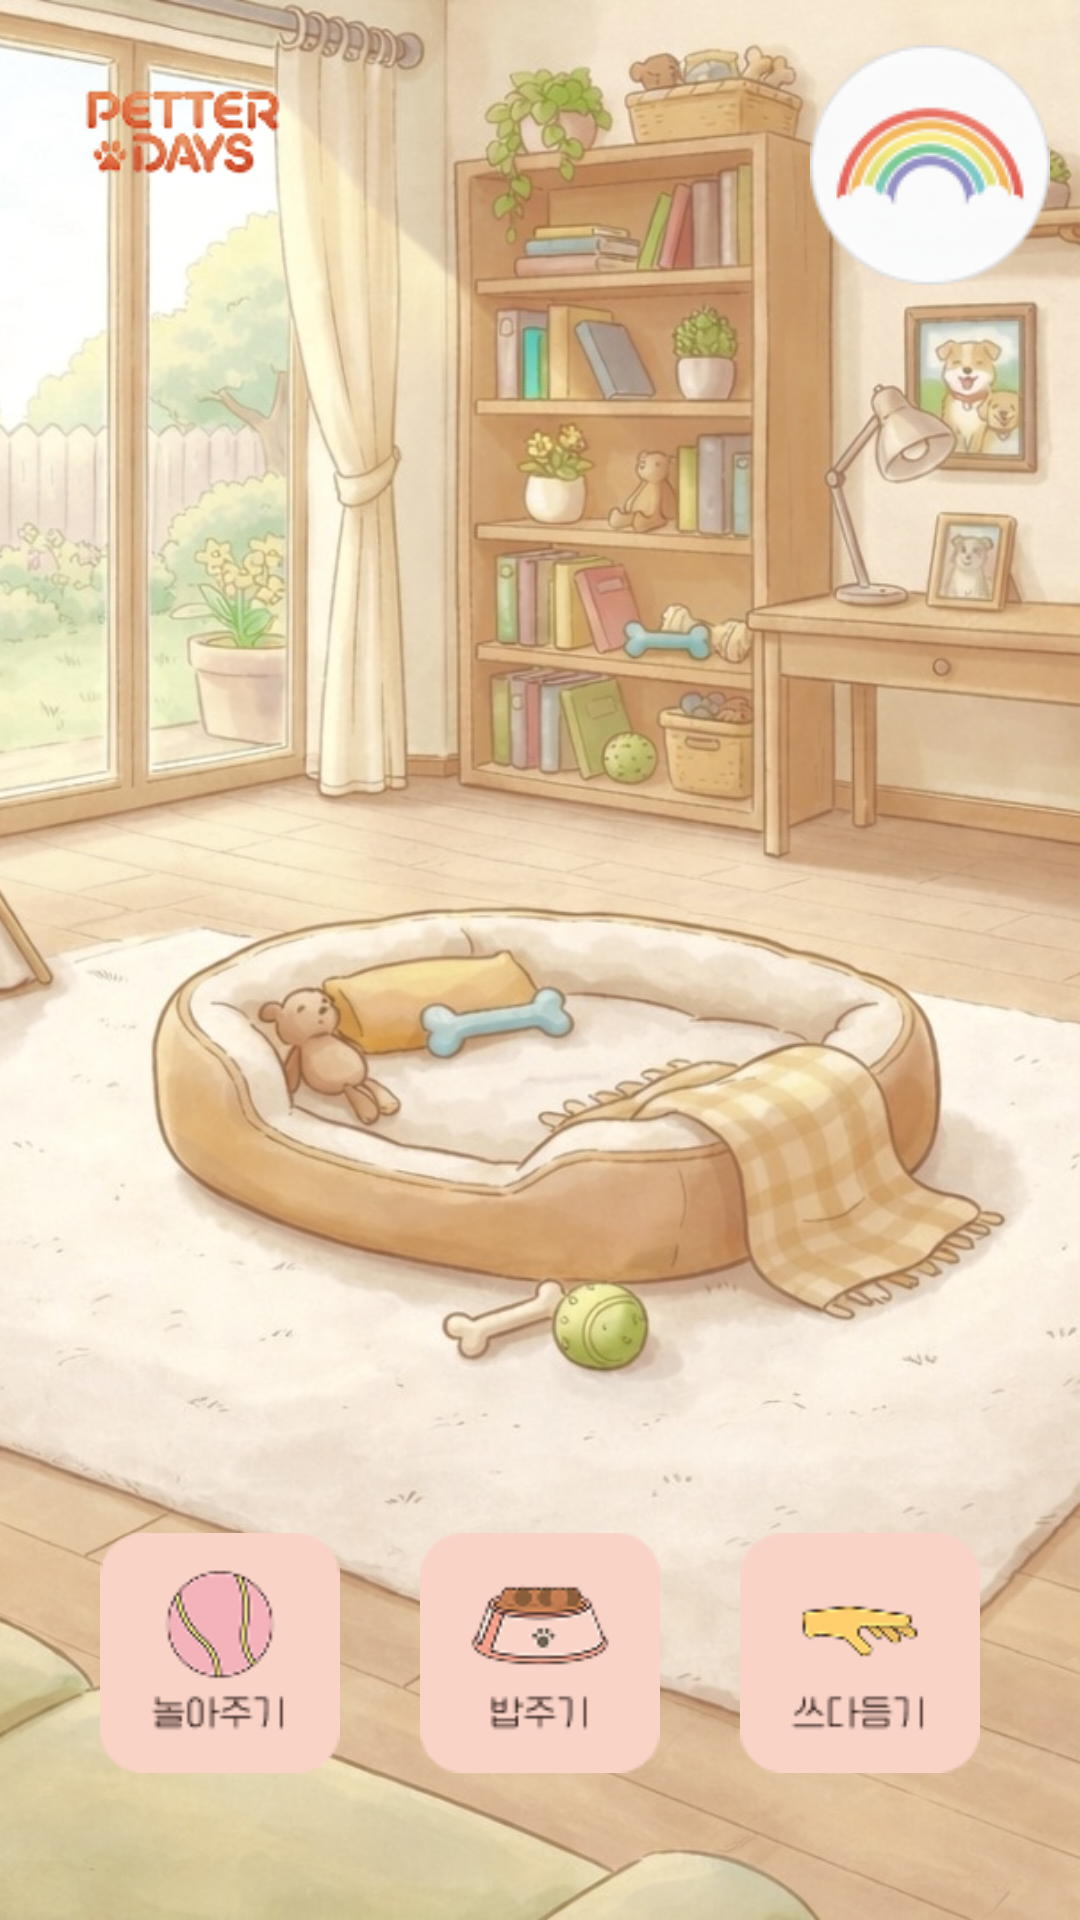

Where icons sit on this 1080*1920 app screen, as (x1, y1, x2, y2):
rainbow: (810, 47, 1050, 285)
